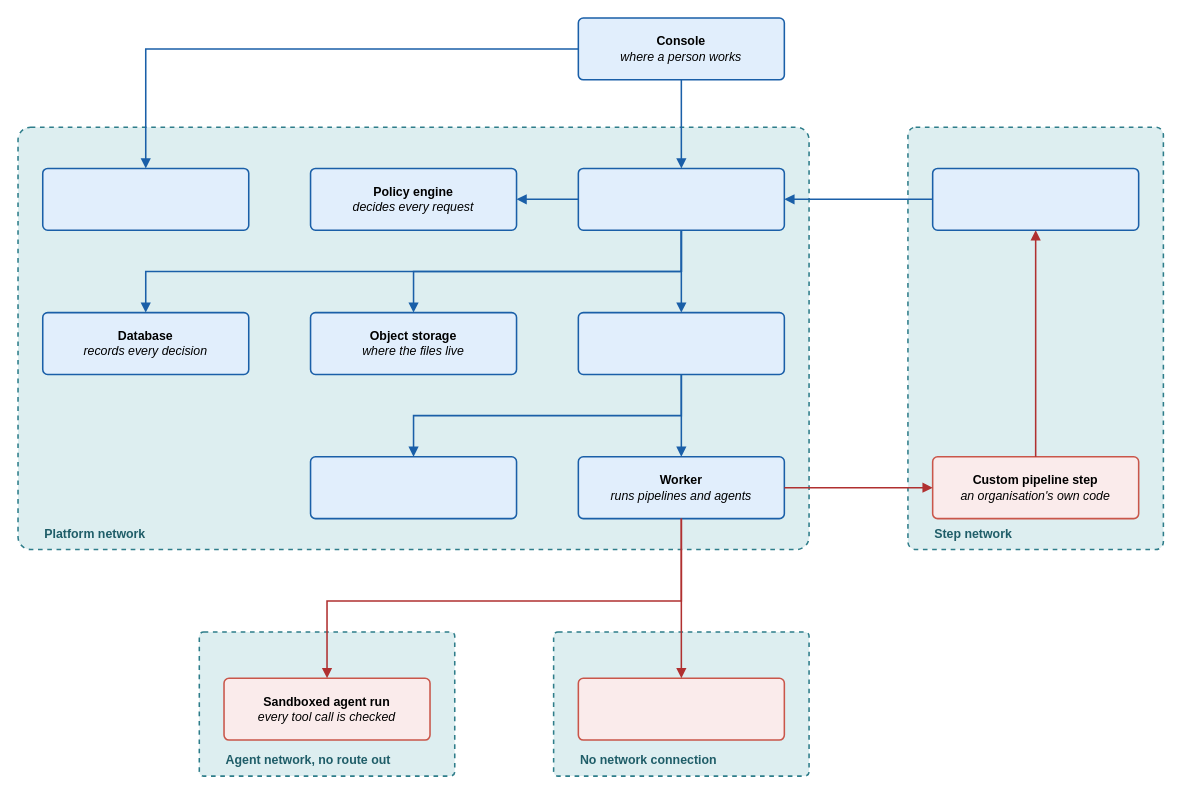
Image size: 1182x795. Some labels were removed from this diagram. The shapes that lost their labels are listed below. From the top down, each one's centre as x and y in pixels, then its label:
the point at 145,199: Sign-in knows who each person is
the point at 681,199: API every request passes here
the point at 1035,199: Step gateway forwards only step routes
the point at 681,343: Workflow engine keeps long jobs running
the point at 413,487: Table worker writes the large tables
the point at 681,708: Derivation runner runs one query, no network
